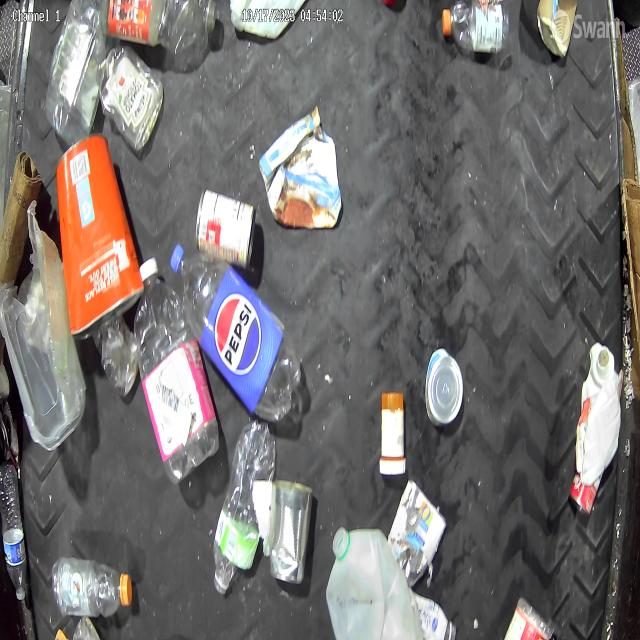can: (388, 476, 447, 589), (270, 479, 314, 586), (195, 192, 255, 268), (426, 346, 464, 431)
milk_jug: (328, 524, 419, 638)
plastic_bottle: (166, 244, 302, 420), (133, 257, 219, 481), (212, 417, 274, 596), (106, 0, 218, 58), (53, 557, 134, 619), (439, 0, 510, 59), (0, 461, 29, 601)
